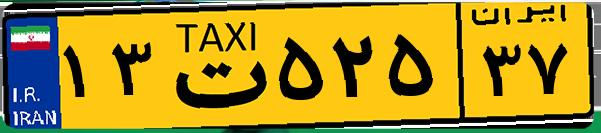1: (57, 26, 110, 100)
2: (330, 28, 385, 110)
3: (475, 38, 525, 113), (110, 28, 158, 98)
5: (270, 28, 330, 110), (385, 28, 445, 110)
7: (525, 38, 570, 115)
ت: (158, 12, 270, 120)
